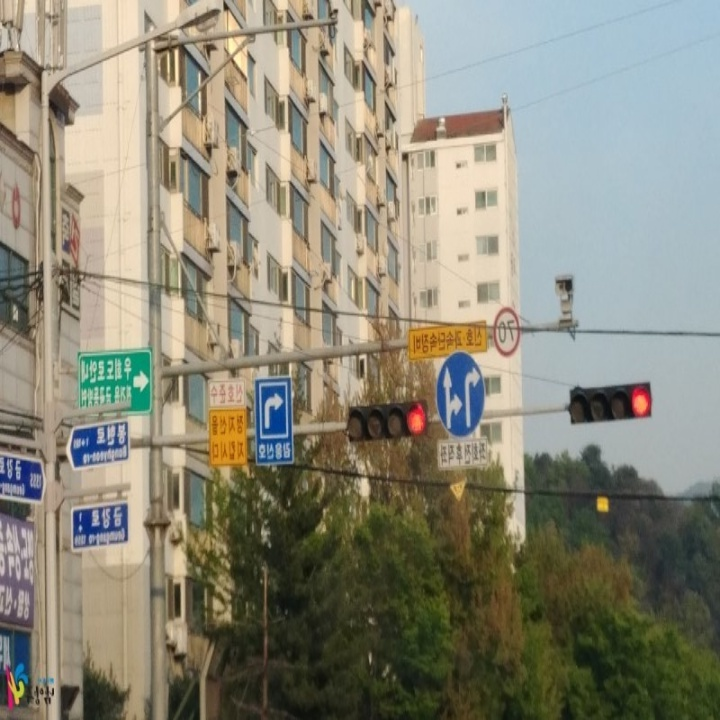right: (462, 361, 487, 430), (262, 389, 287, 432)
